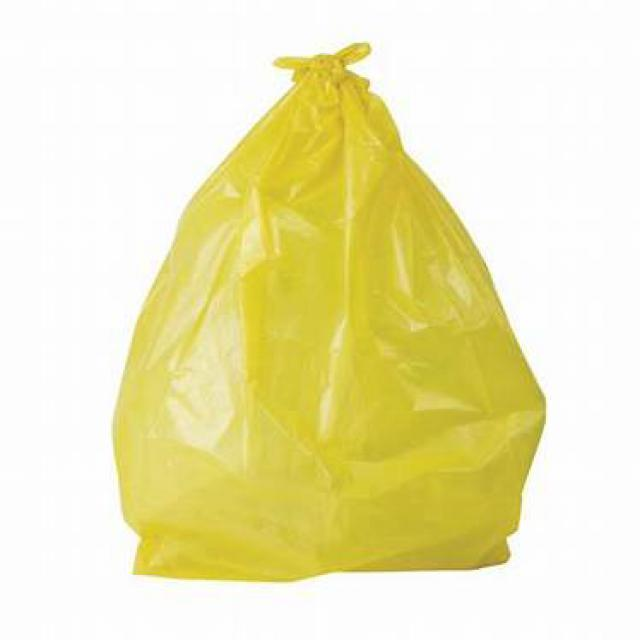waste: (112, 39, 534, 572)
